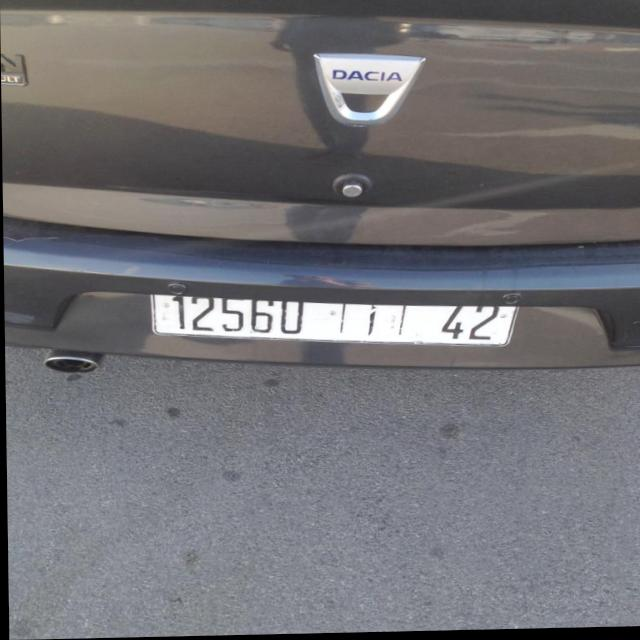License-Plate: (150, 297, 515, 347)
